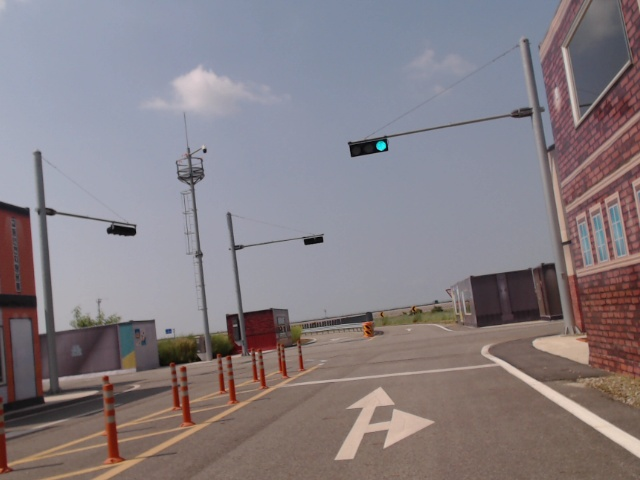green_3: (349, 136, 388, 158)
